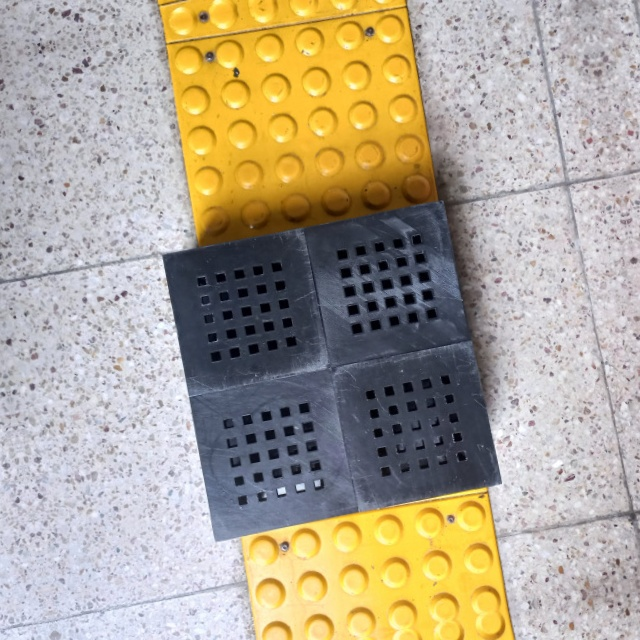pallet: (155, 193, 511, 567)
